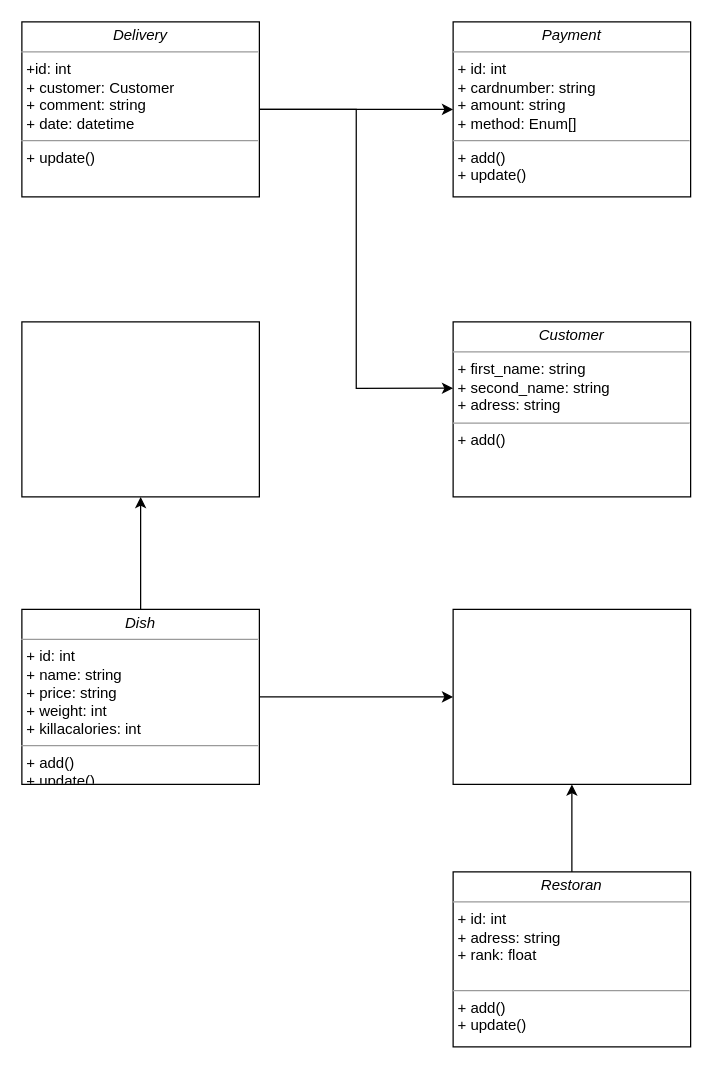
This 713x1069 diagram has some shape labels left out. Here are the shapes that lost their labels. From the top down, the box of each, then its label:
(21, 321, 259, 497): Order + id: int + dishes: List[Dish] + add() + update()
(452, 608, 691, 784): Menu + id: int + dishes: List[Dish] + restoran_id: int + add() + update()
